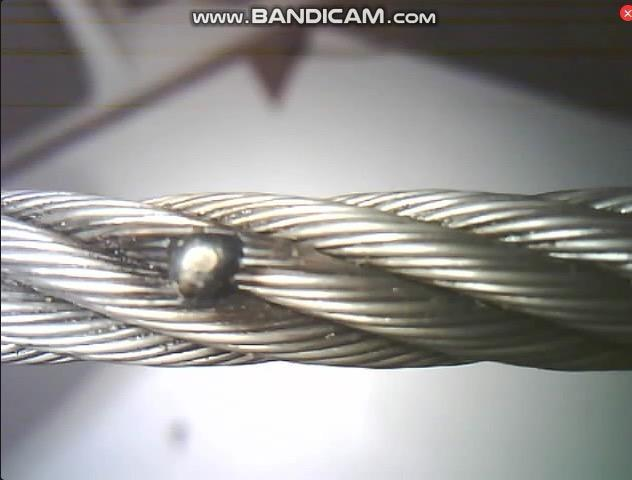thunderbolt: (135, 210, 251, 311)
